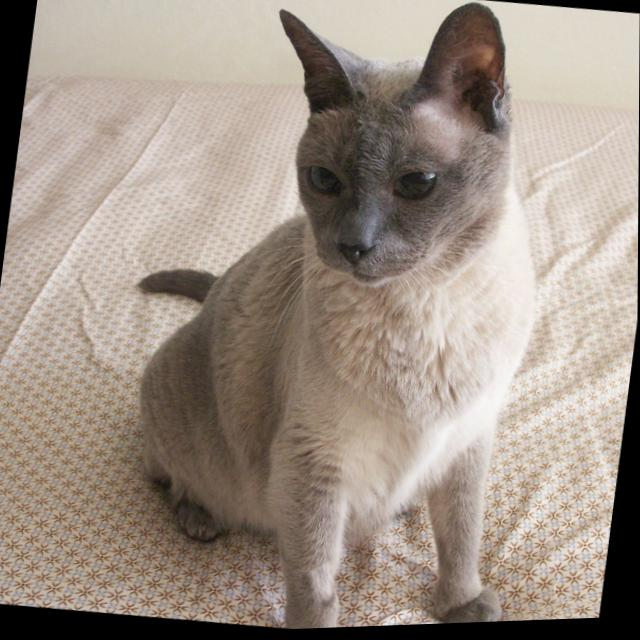animals: (249, 0, 517, 284)
